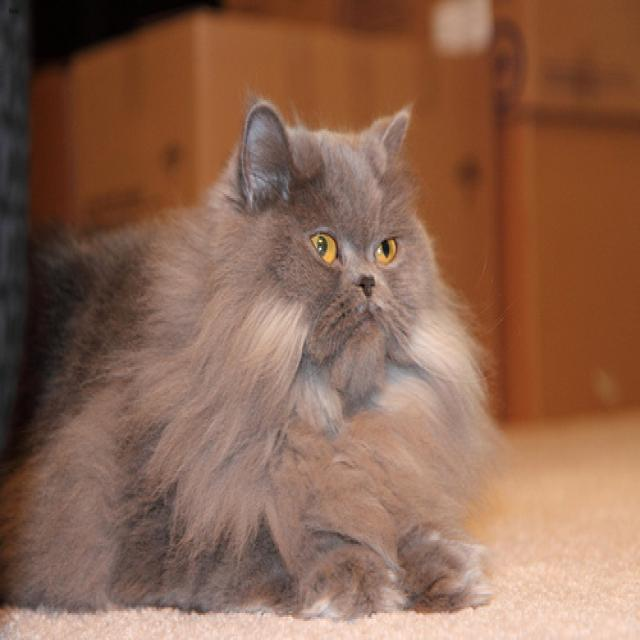Persian: (194, 106, 437, 388)
